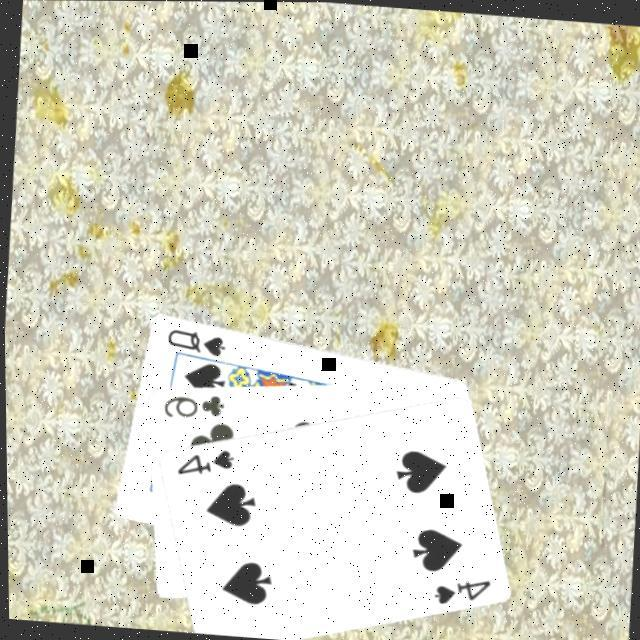4S: (172, 444, 236, 482), (428, 573, 492, 611)
6C: (157, 388, 225, 425)
QS: (162, 326, 228, 360)
